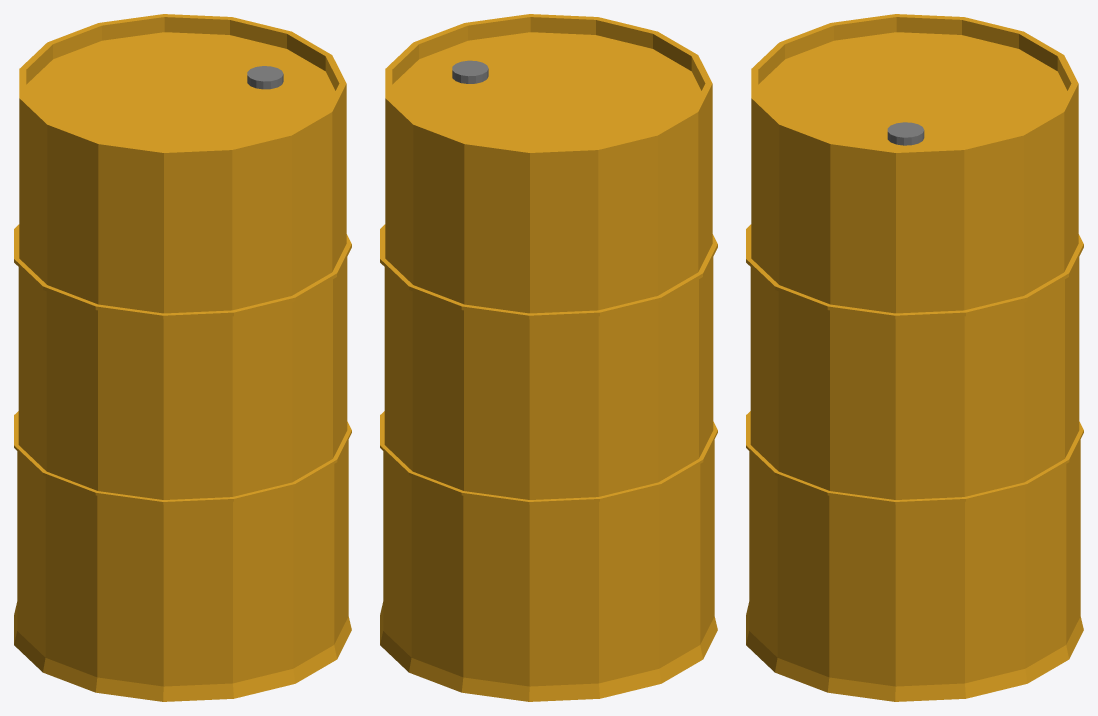
Rendered from GasTankbarrel5.fbx.
The picture shows the model from 3 angles, left to right: view 1: azimuth 30°, elevation 25°; view 2: azimuth 150°, elevation 25°; view 3: azimuth 270°, elevation 25°; orthographic projection.
Parts seen in each view (by area): view 1: Cylinder, Cylinder.001; view 2: Cylinder, Cylinder.001; view 3: Cylinder, Cylinder.001.
Boxes of the visible parts, left/top/right/bottom form: Cylinder: left=14, top=14, right=351, bottom=701; Cylinder.001: left=247, top=66, right=283, bottom=89; Cylinder: left=380, top=14, right=717, bottom=701; Cylinder.001: left=452, top=60, right=488, bottom=83; Cylinder: left=746, top=14, right=1083, bottom=701; Cylinder.001: left=887, top=122, right=924, bottom=145.
Bounding box in the file's own units: 199 × 353 × 198.
